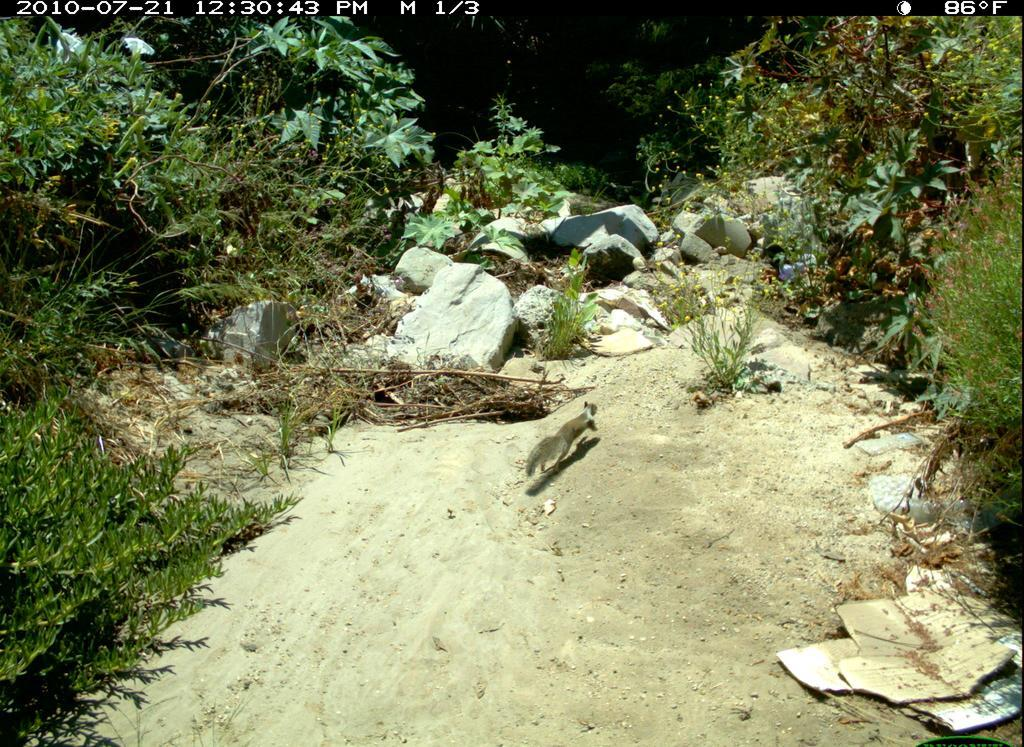squirrel: (520, 391, 610, 487)
